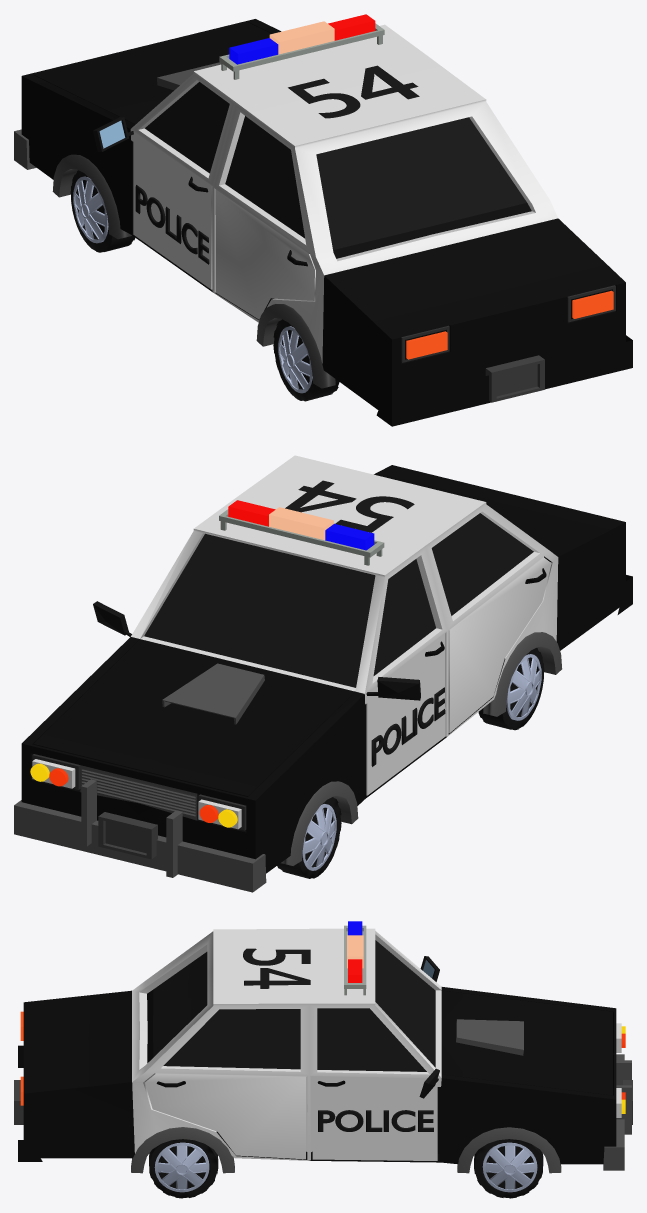
File: Car_Police_1.glb
The picture shows the model from 3 angles, top to bottom: view 1: azimuth 30°, elevation 25°; view 2: azimuth 150°, elevation 25°; view 3: azimuth 270°, elevation 25°; orthographic projection. The views are drawn at different scales.
Visible parts, largest first — view 1: 2.008, Cube.6581, Cylinder.5873, Cylinder.5872, Cylinder.5868, Cube.6586, Text.090, Text.092, Cube.6580, Cube.6590, Cube.6591, Cube.6588 (+1 smaller); view 2: 2.008, Cube.6582, Cylinder.5873, Cube.6592, Cylinder.5872, Cylinder.5868, Cube.6585, Text.090, Cube.6588, Text.092, Cube.6580, Cube.6590 (+4 smaller); view 3: 2.008, Cylinder.5872, Cylinder.5873, Cylinder.5868, Cube.6592, Text.091, Text.090, Cube.6582, Cube.6580, Cube.6588, Cube.6581, Cube.6590 (+1 smaller).
Boxes of the visible parts, x1,y1,x2,y2 form: 2.008: (21, 19, 625, 409); Cube.6581: (376, 335, 632, 426); Cylinder.5873: (52, 154, 335, 388); Cylinder.5872: (73, 176, 312, 393); Cylinder.5868: (70, 170, 339, 401); Cube.6586: (485, 355, 544, 402); Text.090: (288, 65, 419, 118); Text.092: (135, 185, 209, 264); Cube.6580: (219, 23, 384, 79); Cube.6590: (269, 21, 334, 54); Cube.6591: (229, 38, 278, 64); Cube.6588: (93, 117, 128, 151); 2.008: (21, 455, 625, 873); Cube.6582: (14, 800, 266, 892); Cylinder.5873: (281, 632, 562, 865); Cube.6592: (162, 663, 264, 724); Cylinder.5872: (302, 654, 541, 870); Cylinder.5868: (277, 648, 544, 878); Cube.6585: (98, 812, 157, 859); Text.090: (285, 480, 414, 532); Cube.6588: (93, 601, 420, 700); Text.092: (371, 687, 445, 766); Cube.6580: (219, 509, 384, 565); Cube.6590: (269, 507, 333, 540); 2.008: (20, 928, 621, 1164); Cylinder.5872: (154, 1142, 537, 1192); Cylinder.5873: (131, 1127, 561, 1173); Cylinder.5868: (149, 1139, 543, 1198); Cube.6592: (456, 1019, 523, 1055); Text.091: (318, 1110, 433, 1131); Text.090: (243, 948, 310, 988); Cube.6582: (603, 1054, 624, 1170); Cube.6580: (344, 925, 366, 995); Cube.6588: (419, 956, 439, 1098); Cube.6581: (18, 1045, 42, 1161); Cube.6590: (347, 935, 363, 968).
Bounding box in the file's own units: 2.32 × 1.77 × 4.78.
